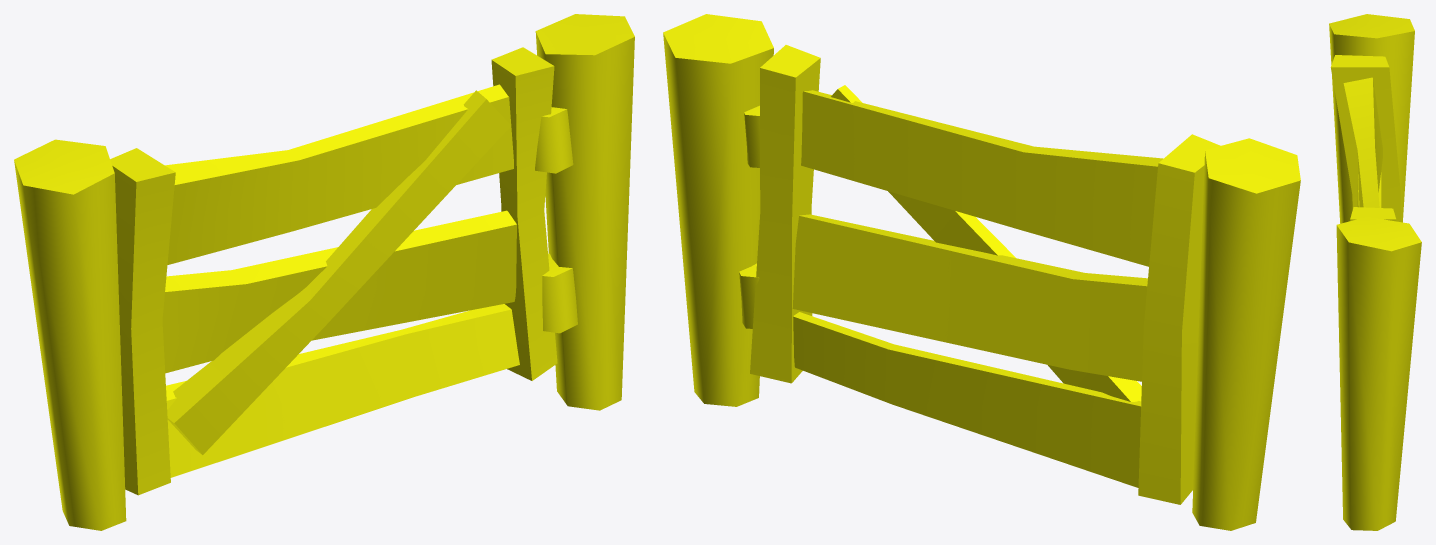
Rendered from SM_PROP_fence_door_gate.glb.
The picture shows the model from 3 angles, left to right: view 1: azimuth 30°, elevation 25°; view 2: azimuth 150°, elevation 25°; view 3: azimuth 270°, elevation 25°; orthographic projection. The views are drawn at different scales.
Visible parts, largest first — view 1: SM_PROP_fence_door, SM_PROP_fence_door_gate; view 2: SM_PROP_fence_door, SM_PROP_fence_door_gate; view 3: SM_PROP_fence_door_gate, SM_PROP_fence_door.
Boxes of the visible parts, x1=… form: SM_PROP_fence_door: x1=110, y1=47, x2=577, y2=495; SM_PROP_fence_door_gate: x1=14, y1=14, x2=634, y2=530; SM_PROP_fence_door: x1=739, y1=45, x2=1220, y2=504; SM_PROP_fence_door_gate: x1=663, y1=14, x2=1300, y2=530; SM_PROP_fence_door_gate: x1=1329, y1=14, x2=1421, y2=530; SM_PROP_fence_door: x1=1330, y1=55, x2=1400, y2=221.
Bounding box in the file's own units: 2.06 × 1.16 × 0.3323.
Materials: 4 (4 with a texture image).
